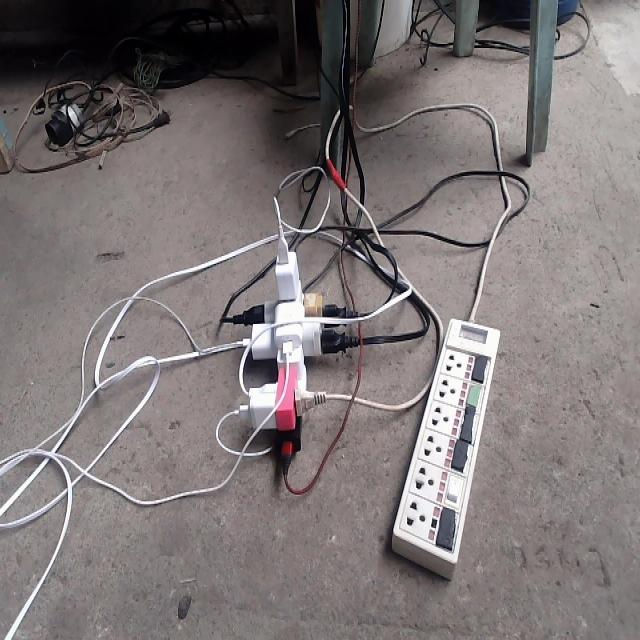-: (229, 218, 358, 466)
